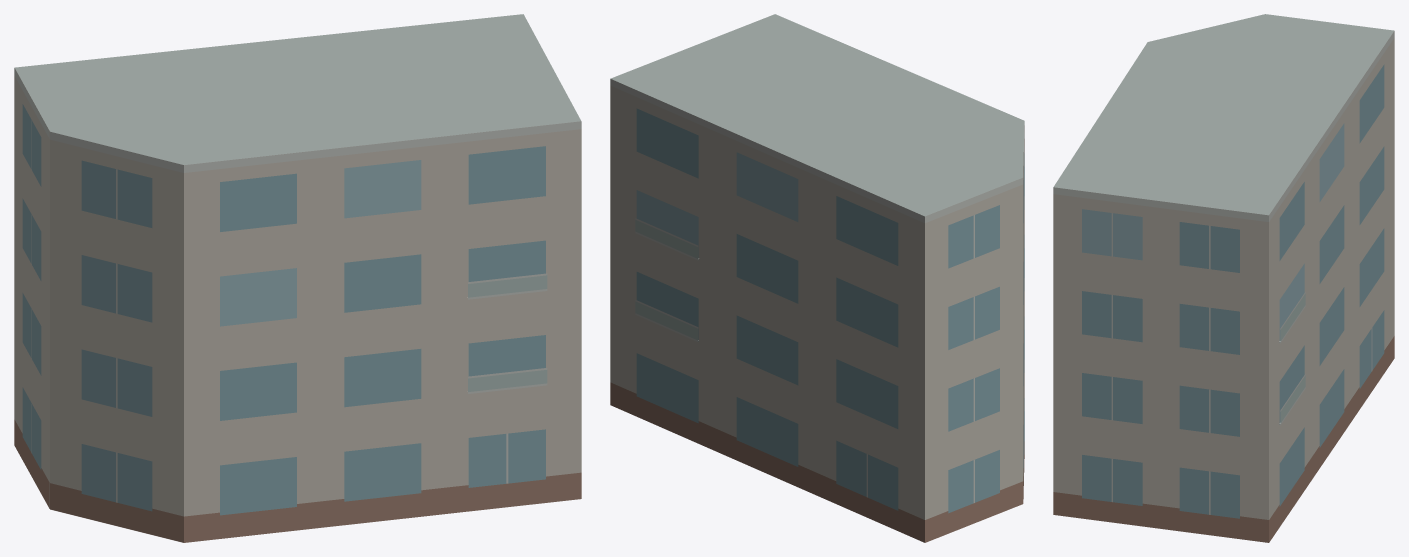
Rendered from survey-upis-32845608.glb.
The picture shows the model from 3 angles, left to right: view 1: azimuth 30°, elevation 25°; view 2: azimuth 150°, elevation 25°; view 3: azimuth 270°, elevation 25°; orthographic projection. The views are drawn at different scales.
Parts seen in each view (by area): view 1: survey-upis-32845608.tmp; view 2: survey-upis-32845608.tmp; view 3: survey-upis-32845608.tmp.
Part boxes in pixels (<box>): survey-upis-32845608.tmp: <box>14,14,581,542</box>; survey-upis-32845608.tmp: <box>610,14,1024,542</box>; survey-upis-32845608.tmp: <box>1053,14,1394,542</box>.
Bounding box in the file's own units: 15.43 × 11.7 × 11.06.
